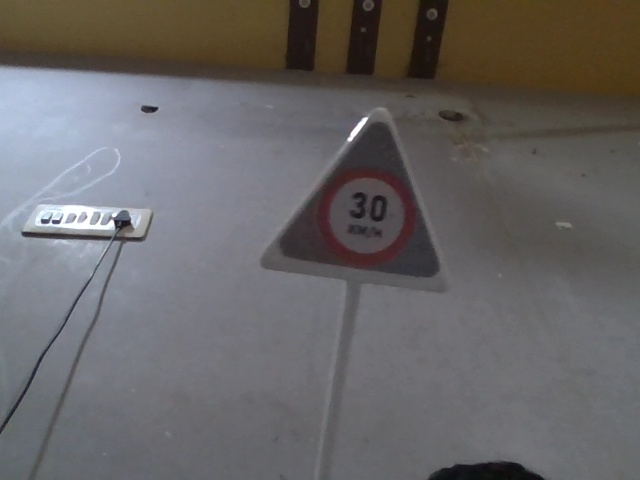speedlimit: (266, 99, 469, 284)
